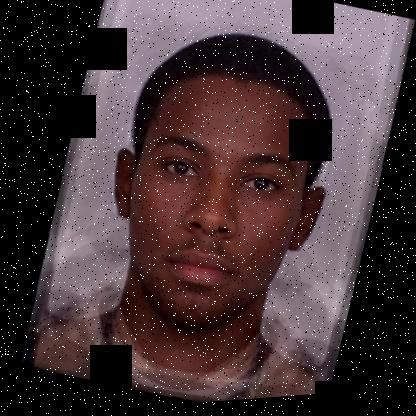Male: (70, 49, 355, 363)
